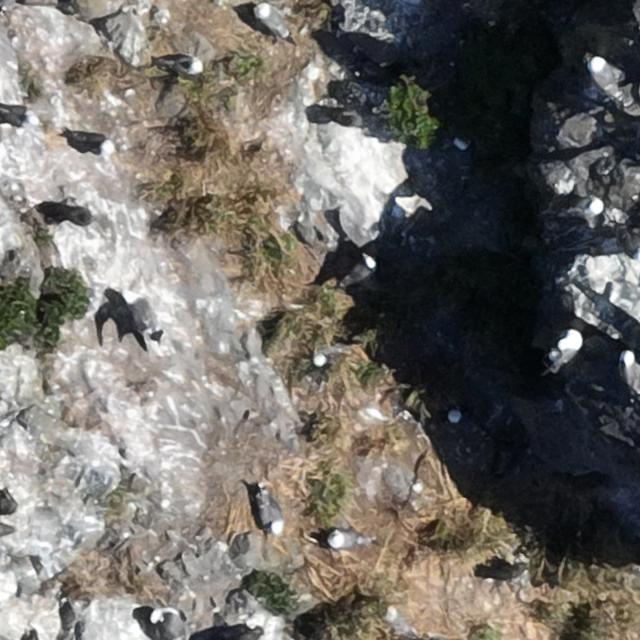umineko: (541, 328, 583, 373), (123, 291, 162, 337), (590, 56, 626, 100), (334, 252, 374, 288), (150, 606, 187, 637), (2, 101, 44, 127), (569, 196, 605, 222), (260, 496, 284, 534), (258, 6, 286, 37), (618, 352, 638, 393), (74, 136, 116, 154), (165, 56, 199, 74), (329, 532, 362, 550), (448, 412, 476, 432), (388, 610, 411, 634), (313, 344, 338, 364)
